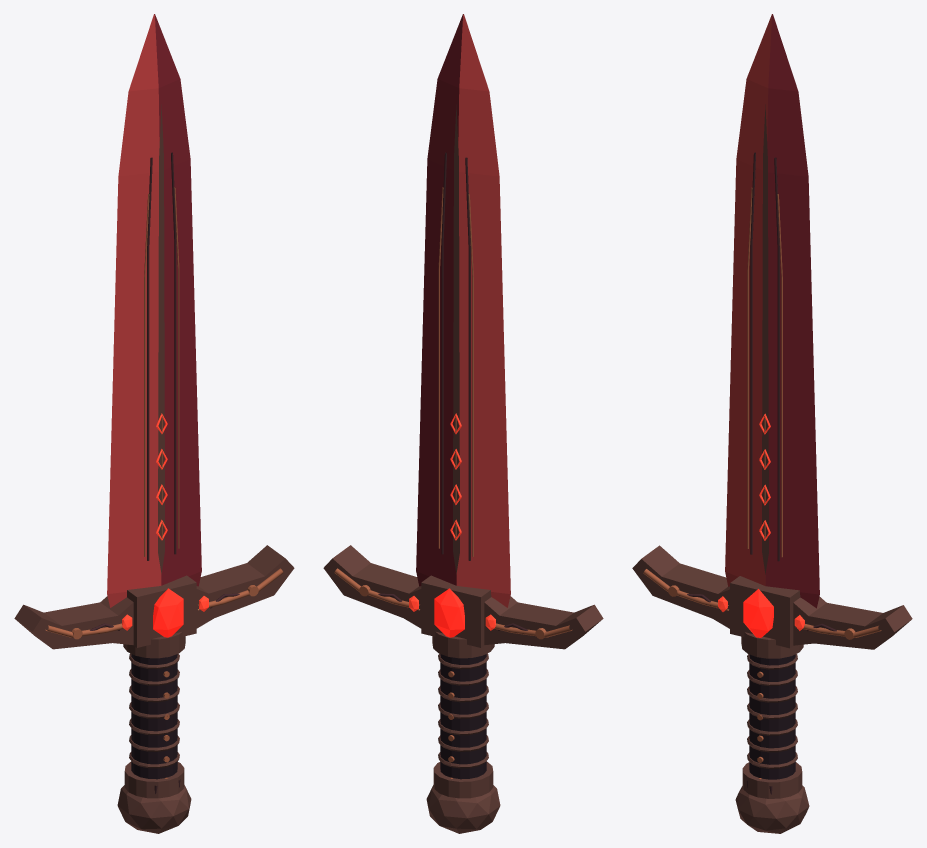
File: espada_carmesi.glb
3 views of the same model, side by side, from view 1: azimuth 30°, elevation 25°; view 2: azimuth 150°, elevation 25°; view 3: azimuth 330°, elevation 25° (orthographic).
Parts seen in each view (by area): view 1: Carmesi - Hoja - acero facetado, Carmesi - Guarda alada, Carmesi - Empunadura, Carmesi - Nervio de la hoja, Carmesi - Centro de la guarda, Carmesi - Pomo, Carmesi - Collar inferior, Canal de acero.001, Canal de acero, Carmesi - Gema del guardian, Carmesi - Collar superior, Filete de metal (+1 smaller); view 2: Carmesi - Hoja - acero facetado, Carmesi - Guarda alada, Carmesi - Empunadura, Carmesi - Nervio de la hoja.001, Carmesi - Centro de la guarda, Carmesi - Pomo, Carmesi - Collar inferior, Canal de acero.003, Canal de acero.002, Carmesi - Gema del guardian.001, Carmesi - Collar superior, Filete de metal.002 (+1 smaller); view 3: Carmesi - Hoja - acero facetado, Carmesi - Guarda alada, Carmesi - Empunadura, Carmesi - Nervio de la hoja, Carmesi - Centro de la guarda, Carmesi - Pomo, Carmesi - Collar inferior, Canal de acero, Canal de acero.001, Carmesi - Gema del guardian, Carmesi - Collar superior, Filete de metal.001 (+1 smaller).
Boxes of the visible parts, <box> form: Carmesi - Hoja - acero facetado: <box>107,14,201,607</box>; Carmesi - Guarda alada: <box>14,545,294,649</box>; Carmesi - Empunadura: <box>131,654,177,779</box>; Carmesi - Nervio de la hoja: <box>158,104,164,574</box>; Carmesi - Centro de la guarda: <box>127,575,196,647</box>; Carmesi - Pomo: <box>117,784,191,833</box>; Carmesi - Collar inferior: <box>124,761,184,798</box>; Canal de acero.001: <box>171,152,176,554</box>; Canal de acero: <box>147,157,152,560</box>; Carmesi - Gema del guardian: <box>153,588,183,637</box>; Carmesi - Collar superior: <box>123,631,185,658</box>; Filete de metal: <box>144,193,149,556</box>; Carmesi - Hoja - acero facetado: <box>416,14,510,607</box>; Carmesi - Guarda alada: <box>323,545,603,649</box>; Carmesi - Empunadura: <box>440,654,486,779</box>; Carmesi - Nervio de la hoja.001: <box>453,104,459,574</box>; Carmesi - Centro de la guarda: <box>421,575,491,647</box>; Carmesi - Pomo: <box>426,784,500,833</box>; Carmesi - Collar inferior: <box>433,761,493,798</box>; Canal de acero.003: <box>441,152,446,554</box>; Canal de acero.002: <box>465,157,470,560</box>; Carmesi - Gema del guardian.001: <box>434,588,464,637</box>; Carmesi - Collar superior: <box>432,631,494,658</box>; Filete de metal.002: <box>468,193,473,556</box>; Carmesi - Hoja - acero facetado: <box>725,14,819,608</box>; Carmesi - Guarda alada: <box>632,545,912,649</box>; Carmesi - Empunadura: <box>749,654,795,779</box>; Carmesi - Nervio de la hoja: <box>762,104,768,574</box>; Carmesi - Centro de la guarda: <box>730,576,800,648</box>; Carmesi - Pomo: <box>735,785,809,833</box>; Carmesi - Collar inferior: <box>742,762,802,798</box>; Canal de acero: <box>750,152,755,554</box>; Canal de acero.001: <box>774,157,779,561</box>; Carmesi - Gema del guardian: <box>743,589,773,637</box>; Carmesi - Collar superior: <box>741,632,803,658</box>; Filete de metal.001: <box>777,194,782,557</box>.
Bounding box in the file's own units: 2.32 × 6.9 × 0.58.
